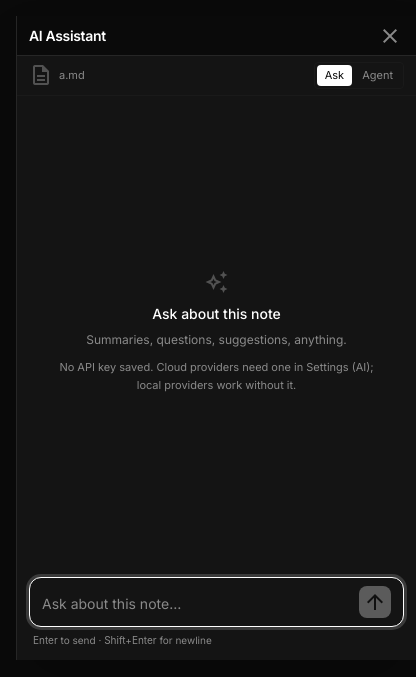
it: AIPanel proposals belong to the document they were asked about › says so when the app refuses the proposal
Click the button "agent": [378, 75] box 354,65 -> 401,86
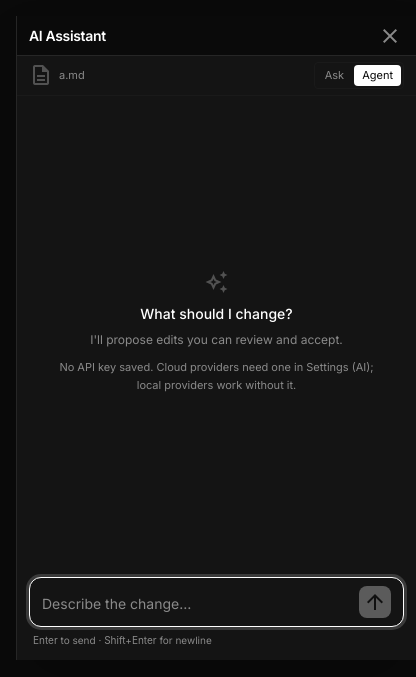
In the text box with placeholder "Describe the change…": [196, 604] box 42,591 -> 351,618, type "fix it"
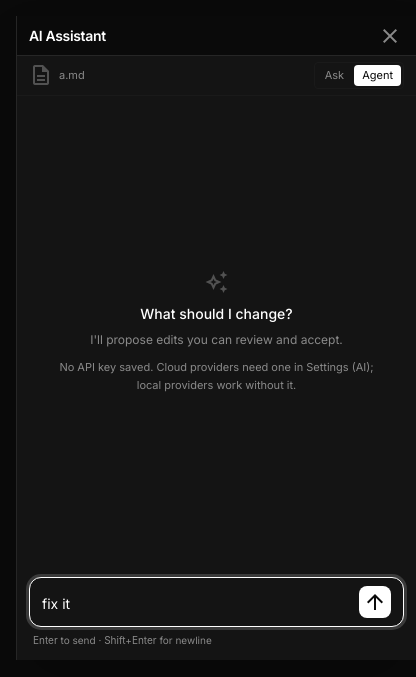
Click the button named "Send": [375, 602] box 359,586 -> 391,618
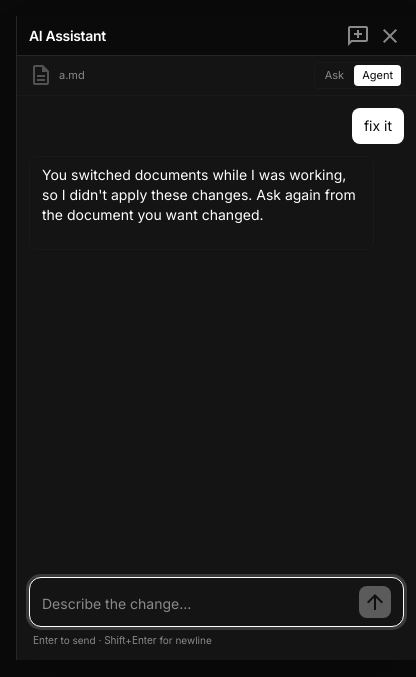
Result: the text "switched documents" is shown at 42,166 -> 356,222
Result: the text "review and accept" is gone
